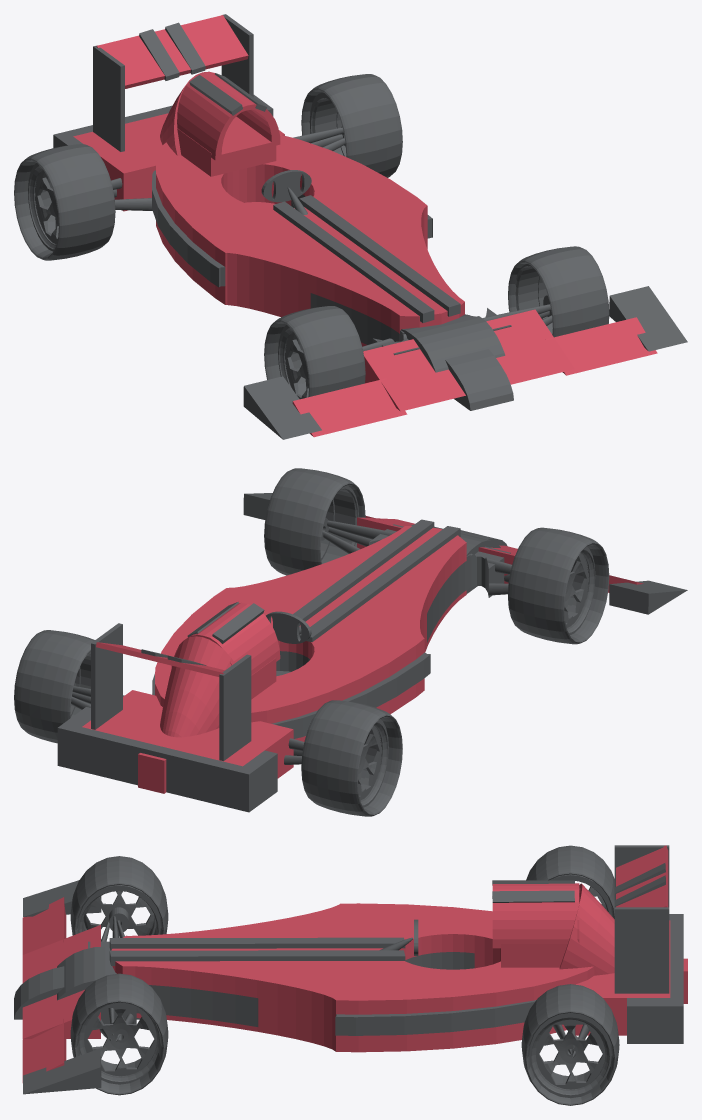
Rendered from car.glb.
3 views of the same model, one above another, from view 1: azimuth 30°, elevation 25°; view 2: azimuth 150°, elevation 25°; view 3: azimuth 270°, elevation 25° (orthographic).
Parts seen in each view (by area): view 1: Mesh_Mesh_head_geo.001_lambert2SG.001; view 2: Mesh_Mesh_head_geo.001_lambert2SG.001; view 3: Mesh_Mesh_head_geo.001_lambert2SG.001.
Part boxes in pixels (box(x1,y1,x2,y2)): Mesh_Mesh_head_geo.001_lambert2SG.001: box(14, 14, 687, 439); Mesh_Mesh_head_geo.001_lambert2SG.001: box(14, 468, 687, 816); Mesh_Mesh_head_geo.001_lambert2SG.001: box(14, 845, 687, 1105).
Bounding box in the file's own units: 37 × 13.69 × 54.
